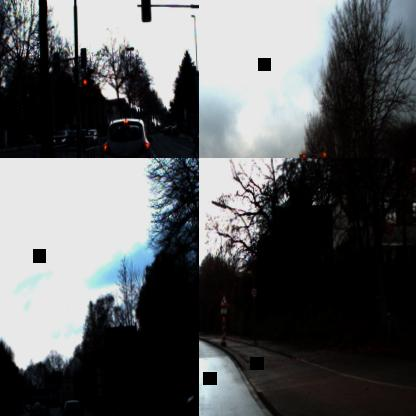CONSTRUCTION: (219, 292, 228, 307)
no overtaking: (95, 384, 103, 398)
speed limit 100: (306, 153, 319, 158)
speed limit 50: (250, 286, 258, 298)
speed limit 70: (94, 374, 102, 386)
traffic signal: (94, 362, 102, 375)
